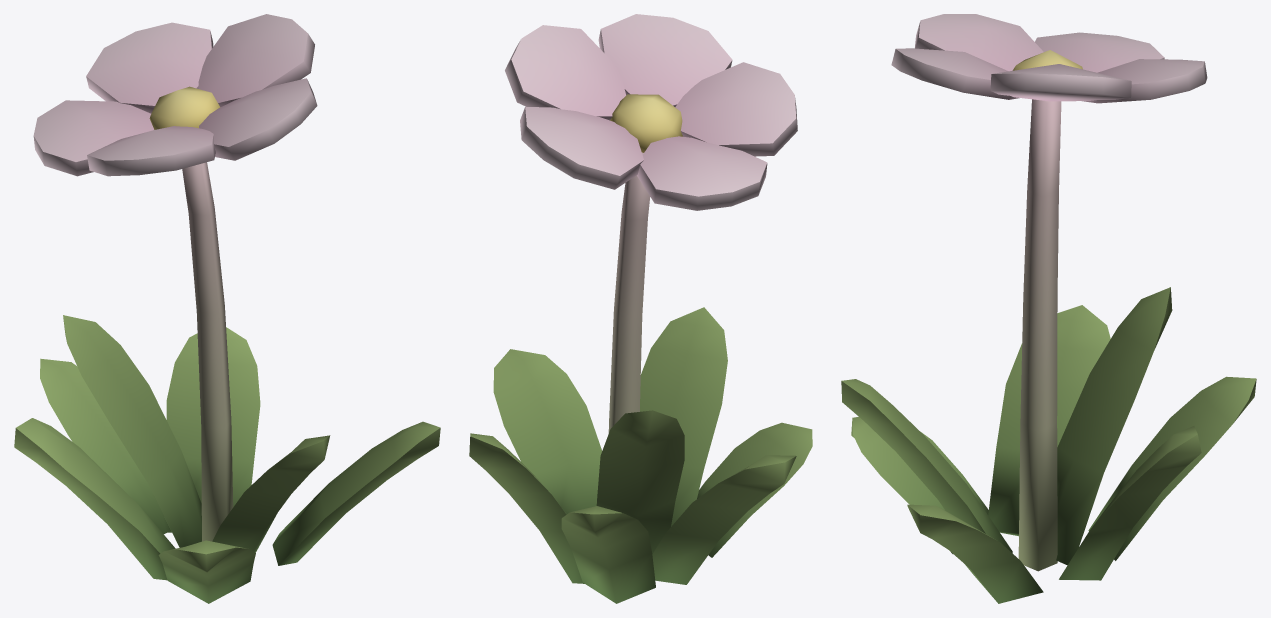
File: flowers_big_b.glb
The picture shows the model from 3 angles, left to right: view 1: azimuth 30°, elevation 25°; view 2: azimuth 150°, elevation 25°; view 3: azimuth 270°, elevation 25°; orthographic projection. The views are drawn at different scales.
Parts seen in each view (by area): view 1: Flowers_Big_B.001; view 2: Flowers_Big_B.001; view 3: Flowers_Big_B.001.
Boxes of the visible parts, x1,y1,x2,y2 form: Flowers_Big_B.001: [14, 14, 440, 603]; Flowers_Big_B.001: [469, 14, 812, 603]; Flowers_Big_B.001: [841, 14, 1256, 603].
Bounding box in the file's own units: 0.3911 × 0.5521 × 0.3814.
